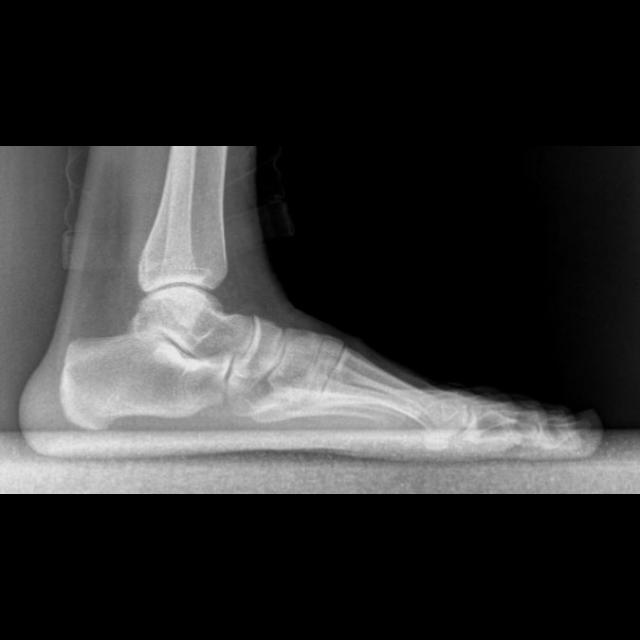a: (60, 334, 233, 434)
b: (236, 313, 287, 383)
c: (321, 348, 471, 443)
